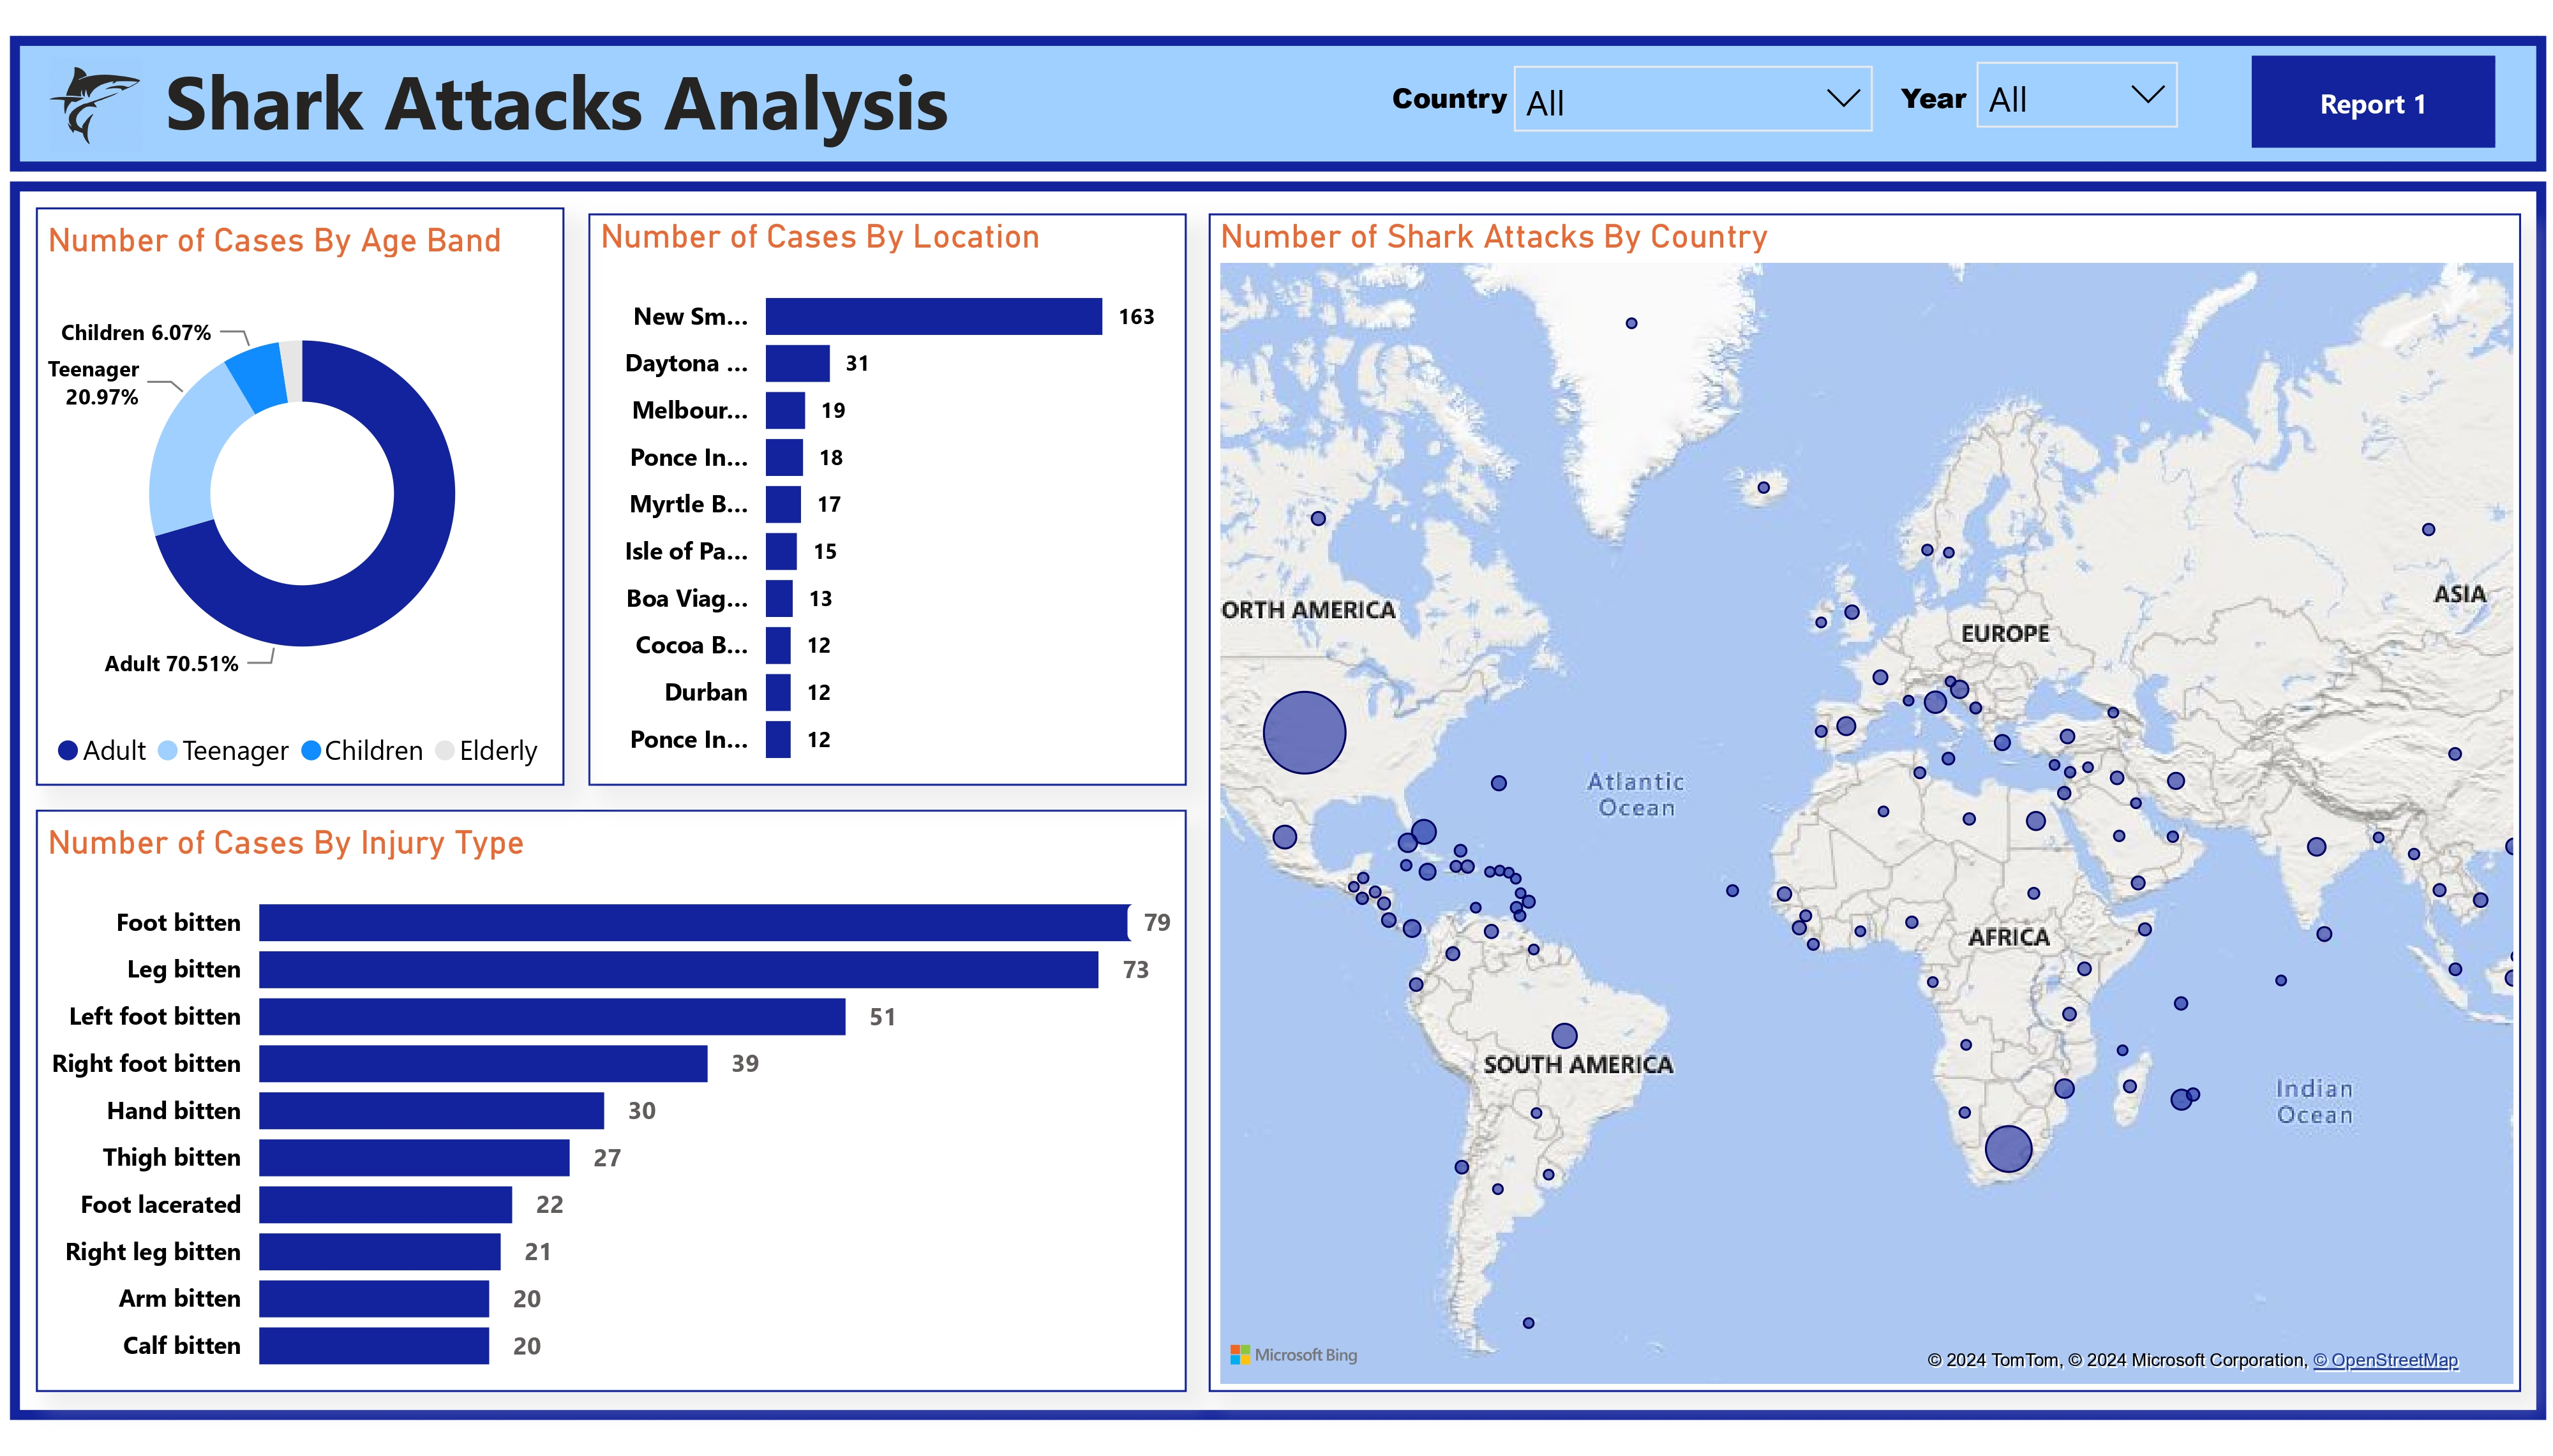

What the dashboard file says about the page in this screenshot:
{"tool":"powerbi","page":{"name":"REPORT 2","canvas":[1280,720],"ordinal":1},"visuals":[{"type":"textbox","box":[10,290,280,280],"z":0},{"type":"shape","box":[5,85.6,1271.6,621],"z":1000},{"type":"shape","box":[5,13.4,1271.6,68],"z":2000},{"type":"barChart","title":"Top 10 Cases By Injury Type","fields":{"Category":["Attacks_New1.Injury"],"Y":["DAX.Total Cases"]},"box":[18.5,400.9,577.1,291.9],"z":3000},{"type":"barChart","title":"Top 10 Locations By Number of Cases","fields":{"Category":["Attacks_New1.Location"],"Y":["DAX.Total Cases"]},"box":[295.3,102.3,300,286.9],"z":4000},{"type":"map","title":"Shark Attacks Across Continents and Countries","fields":{"Size":["DAX.Total Cases"],"Category":["Attacks_New1.Country"]},"box":[605.6,102.3,657.6,590.5],"z":5000},{"type":"donutChart","title":"Number of Cases By Age Band","fields":{"Category":["Attacks_New1.Age Band"],"Y":["DAX.Total Cases"]},"box":[18.5,99,265,290.2],"z":6000},{"type":"slicer","fields":{"Values":["Attacks_New1.Country"]},"box":[748.8,21.6,200.2,46.1],"z":7000},{"type":"slicer","fields":{"Values":["Attacks_New1.Year"]},"box":[980.6,20.2,121,57.6],"z":8000},{"type":"textbox","box":[947.5,28.8,66.2,33.1],"z":9000},{"type":"textbox","box":[692.6,28.8,89.3,33.1],"z":10000},{"type":"image","box":[8.9,17.7,76.9,57.7],"z":11000},{"type":"actionButton","box":[1129,23,122.4,46.1],"z":12000},{"type":"textbox","box":[81.2,15.1,562.9,60.6],"z":13000}]}

Visuals, with their boxes in screenshot pixels (x1, y1, x2, y2), scaled from the page's 1280x720 canvas onto the 2553x1456 screenshot:
textbox: 20,586,578,1153
shape: 10,173,2546,1429
shape: 10,27,2546,165
"Top 10 Cases By Injury Type" barChart: 37,811,1188,1401
"Top 10 Locations By Number of Cases" barChart: 589,207,1187,787
"Shark Attacks Across Continents and Countries" map: 1208,207,2520,1401
"Number of Cases By Age Band" donutChart: 37,200,565,787
slicer - Attacks_New1.Country: 1494,43,1893,137
slicer - Attacks_New1.Year: 1956,41,2197,158
textbox: 1890,58,2022,125
textbox: 1381,58,1559,125
image: 18,36,171,152
actionButton: 2252,47,2496,140
textbox: 162,31,1285,153
